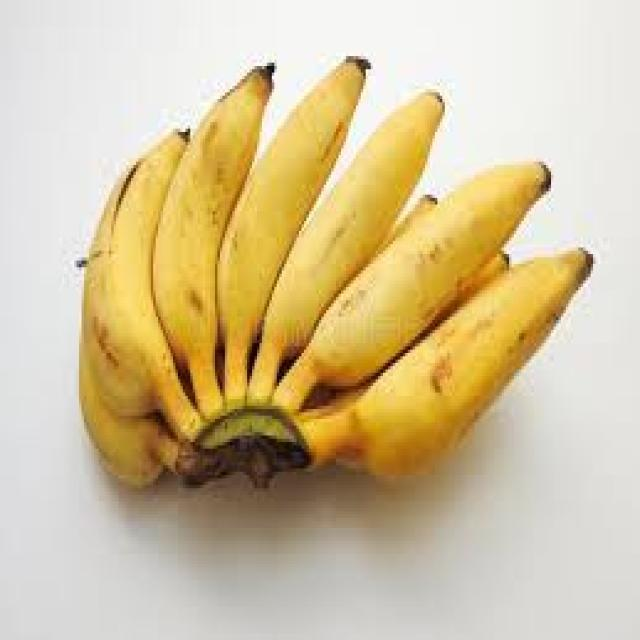Banana: (74, 52, 593, 492)
